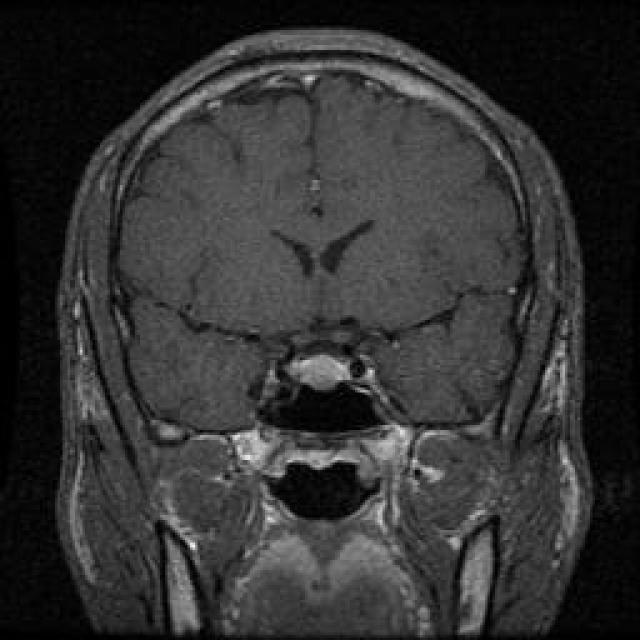pituitary: (276, 348, 381, 398)
